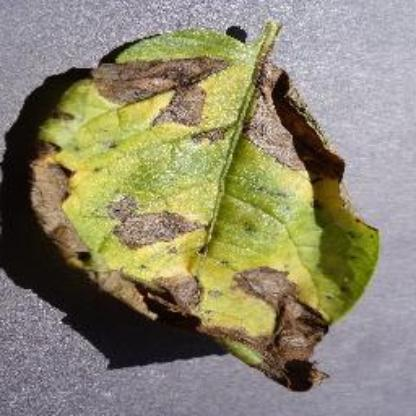Early-Blight: (20, 4, 398, 394)
